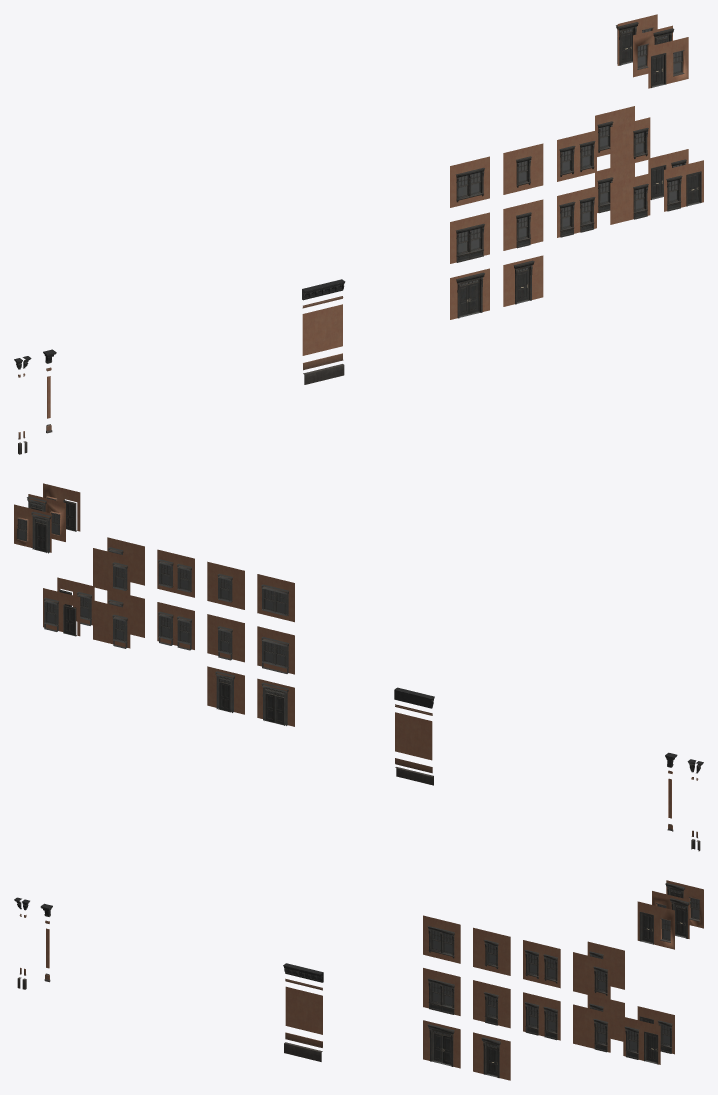
File: facade_apartments.glb
3 views of the same model, one above another, from view 1: azimuth 30°, elevation 25°; view 2: azimuth 150°, elevation 25°; view 3: azimuth 330°, elevation 25° (orthographic). The views are drawn at different scales.
Parts seen in each view (by area): view 1: wall_standard_standard_01, wall_window_centered_small_02, wall_window_offset_small_03, wall_window_centered_small_01, wall_window_offset_small_01, wall_door_window_small_010, wall_door_centered_small_01, door_centered_large_01, wall_window_centered_large_02, wall_window_centered_double_02, door_window_small_01, window_centered_double_01 (+11 smaller); view 2: wall_standard_standard_01, wall_window_centered_small_02, wall_window_offset_small_04, wall_window_offset_small_02, wall_window_centered_small_01, door_centered_large_01, door_window_small_012, wall_door_centered_small_01, window_centered_double_01, wall_window_offset_small_03, wall_window_centered_large_02, wall_window_centered_large_01 (+14 smaller); view 3: wall_standard_standard_01, wall_window_offset_small_03, wall_window_centered_small_02, wall_window_offset_small_01, wall_window_centered_small_01, wall_door_centered_small_01, wall_door_window_small_010, door_centered_large_01, wall_window_centered_double_02, wall_window_centered_large_02, door_window_small_01, wall_window_offset_small_04 (+23 smaller).
Part boxes in pixels (x1,y1,x2,y2): wall_standard_standard_01: (302,304,342,355); wall_window_centered_small_02: (503,143,543,194); wall_window_offset_small_03: (610,117,650,168); wall_window_centered_small_01: (503,199,543,250); wall_window_offset_small_01: (610,173,650,224); wall_door_window_small_010: (648,37,688,88); wall_door_centered_small_01: (503,255,543,306); door_centered_large_01: (456,272,484,318); wall_window_centered_large_02: (450,156,489,207); wall_window_centered_double_02: (557,130,596,181); door_window_small_01: (666,171,701,211); window_centered_double_01: (559,196,595,237); wall_standard_standard_01: (395,712,432,760); wall_window_centered_small_02: (207,561,244,609); wall_window_offset_small_04: (93,548,130,595); wall_window_offset_small_02: (93,600,130,648); wall_window_centered_small_01: (207,614,244,662); door_centered_large_01: (261,682,288,725); door_window_small_012: (17,511,52,553); wall_door_centered_small_01: (207,666,244,714); window_centered_double_01: (158,611,192,650); wall_window_offset_small_03: (107,537,144,585); wall_window_centered_large_02: (257,574,294,622); wall_window_centered_large_01: (257,626,294,674); wall_standard_standard_01: (285,986,322,1034); wall_window_offset_small_03: (573,952,610,1000); wall_window_centered_small_02: (473,927,510,975); wall_window_offset_small_01: (573,1004,610,1052); wall_window_centered_small_01: (473,980,510,1028); wall_door_centered_small_01: (473,1032,510,1080); wall_door_window_small_010: (637,901,674,949); door_centered_large_01: (427,1024,454,1066); wall_window_centered_double_02: (523,940,560,988); wall_window_centered_large_02: (423,915,460,963); door_window_small_01: (624,1026,658,1064); wall_window_offset_small_04: (587,941,624,989).
Size of the model in its own units: 51.53 by 17 by 6.67.
5 materials, 5 textured.
